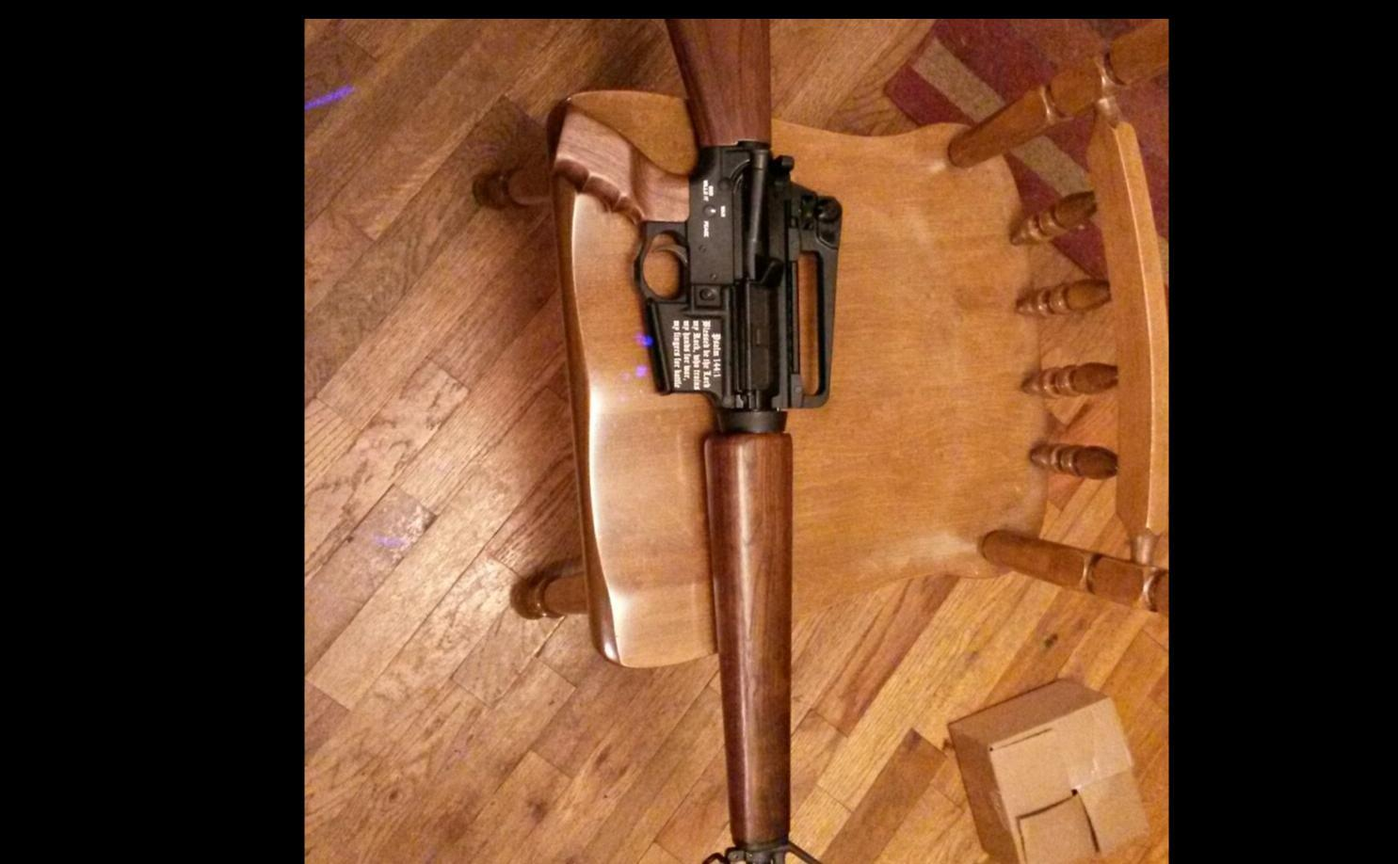larga: (543, 22, 844, 864)
